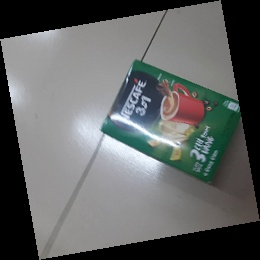Nes Rang: (99, 58, 246, 186)
